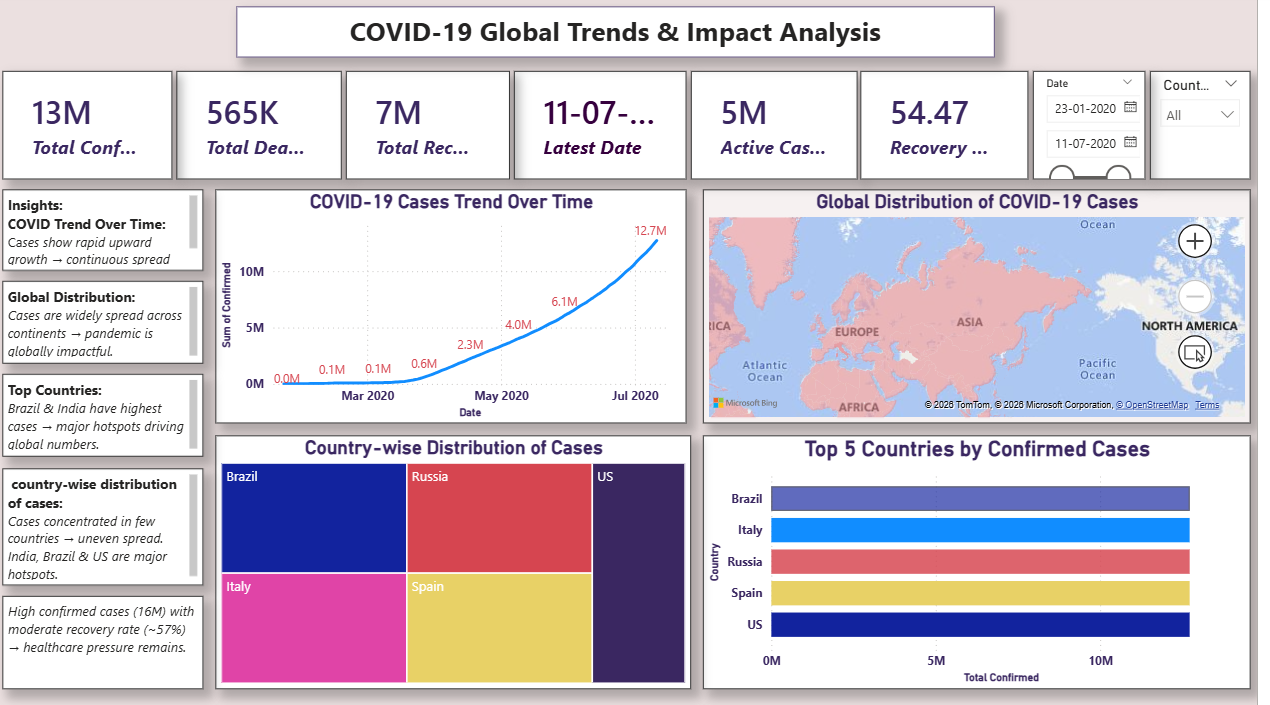

The dashboard page shown, as its layout file describes it:
{"tool":"powerbi","page":{"name":"Page 1","canvas":[1280,720],"ordinal":0},"visuals":[{"type":"cardVisual","fields":{"Data":["Covid_19_Data.Latest Date"]},"box":[530,78.7,174.1,109],"z":0},{"type":"cardVisual","fields":{"Data":["Covid_19_Data.Total Deaths"]},"box":[189.3,78.7,166.6,109],"z":1000},{"type":"cardVisual","fields":{"Data":["Covid_19_Data.Total Confirmed"]},"box":[13.6,78.7,171.1,109],"z":2000},{"type":"cardVisual","fields":{"Data":["Covid_19_Data.Total Recovered"]},"box":[360.4,78.7,165,109],"z":3000},{"type":"cardVisual","fields":{"Data":["Covid_19_Data.Active Cases","Covid_19_Data.Active Cases"]},"box":[708.6,78.7,168.1,109],"z":4000},{"type":"cardVisual","fields":{"Data":["Covid_19_Data.Recovery Rate"]},"box":[879.8,78.7,169.6,109],"z":5000},{"type":"lineChart","title":"COVID-19 Cases Trend Over Time","fields":{"Y":["Sum(Covid_19_Data.Confirmed)"],"Category":["Covid_19_Data.Date"]},"box":[228.6,198.4,475.5,236.2],"z":6000},{"type":"filledMap","title":"Global Distribution of COVID-19 Cases","fields":{"Category":["Covid_19_Data.Country"]},"box":[720.8,198.4,552.7,236.2],"z":7000},{"type":"barChart","title":"Top 5 Countries                       by Confirmed Cases","fields":{"Category":["Covid_19_Data.Country"],"Y":["Covid_19_Data.Total Confirmed"]},"box":[720.8,446.7,552.7,255.9],"z":8000},{"type":"treemap","title":"Country-wise Distribution of Cases","fields":{"Values":["Covid_19_Data.Total Confirmed"],"Group":["Covid_19_Data.Country"]},"box":[228.6,446.7,480,255.9],"z":9000},{"type":"slicer","fields":{"Values":["Covid_19_Data.Country"]},"box":[1172,78.7,101.5,109],"z":10000},{"type":"slicer","fields":{"Values":["Covid_19_Data.Date"]},"box":[1053.9,78.7,113.6,109],"z":11000},{"type":"textbox","box":[249.5,13.2,765.4,51],"z":12000},{"type":"textbox","box":[13.6,198.4,202.9,81.8],"z":13000},{"type":"textbox","box":[13.6,290.7,202.9,83.3],"z":14000},{"type":"textbox","box":[13.6,384.6,202.9,83.3],"z":15000},{"type":"textbox","box":[13.6,480,202.9,118.1],"z":16000},{"type":"textbox","box":[13.6,608.7,202.9,93.9],"z":17000}]}

Visuals, with their boxes in screenshot pixels (x1, y1, x2, y2), scaled from the page's 1280x720 canvas onto the 1270x705 screenshot:
cardVisual - Covid_19_Data.Latest Date: [526,77,699,184]
cardVisual - Covid_19_Data.Total Deaths: [188,77,353,184]
cardVisual - Covid_19_Data.Total Confirmed: [13,77,183,184]
cardVisual - Covid_19_Data.Total Recovered: [358,77,521,184]
cardVisual - Covid_19_Data.Active Cases x Covid_19_Data.Active Cases: [703,77,870,184]
cardVisual - Covid_19_Data.Recovery Rate: [873,77,1041,184]
"COVID-19 Cases Trend Over Time" lineChart: [227,194,699,426]
"Global Distribution of COVID-19 Cases" filledMap: [715,194,1264,426]
"Top 5 Countries                       by Confirmed Cases" barChart: [715,437,1264,688]
"Country-wise Distribution of Cases" treemap: [227,437,703,688]
slicer - Covid_19_Data.Country: [1163,77,1264,184]
slicer - Covid_19_Data.Date: [1046,77,1158,184]
textbox: [248,13,1007,63]
textbox: [13,194,215,274]
textbox: [13,285,215,366]
textbox: [13,377,215,458]
textbox: [13,470,215,586]
textbox: [13,596,215,688]
